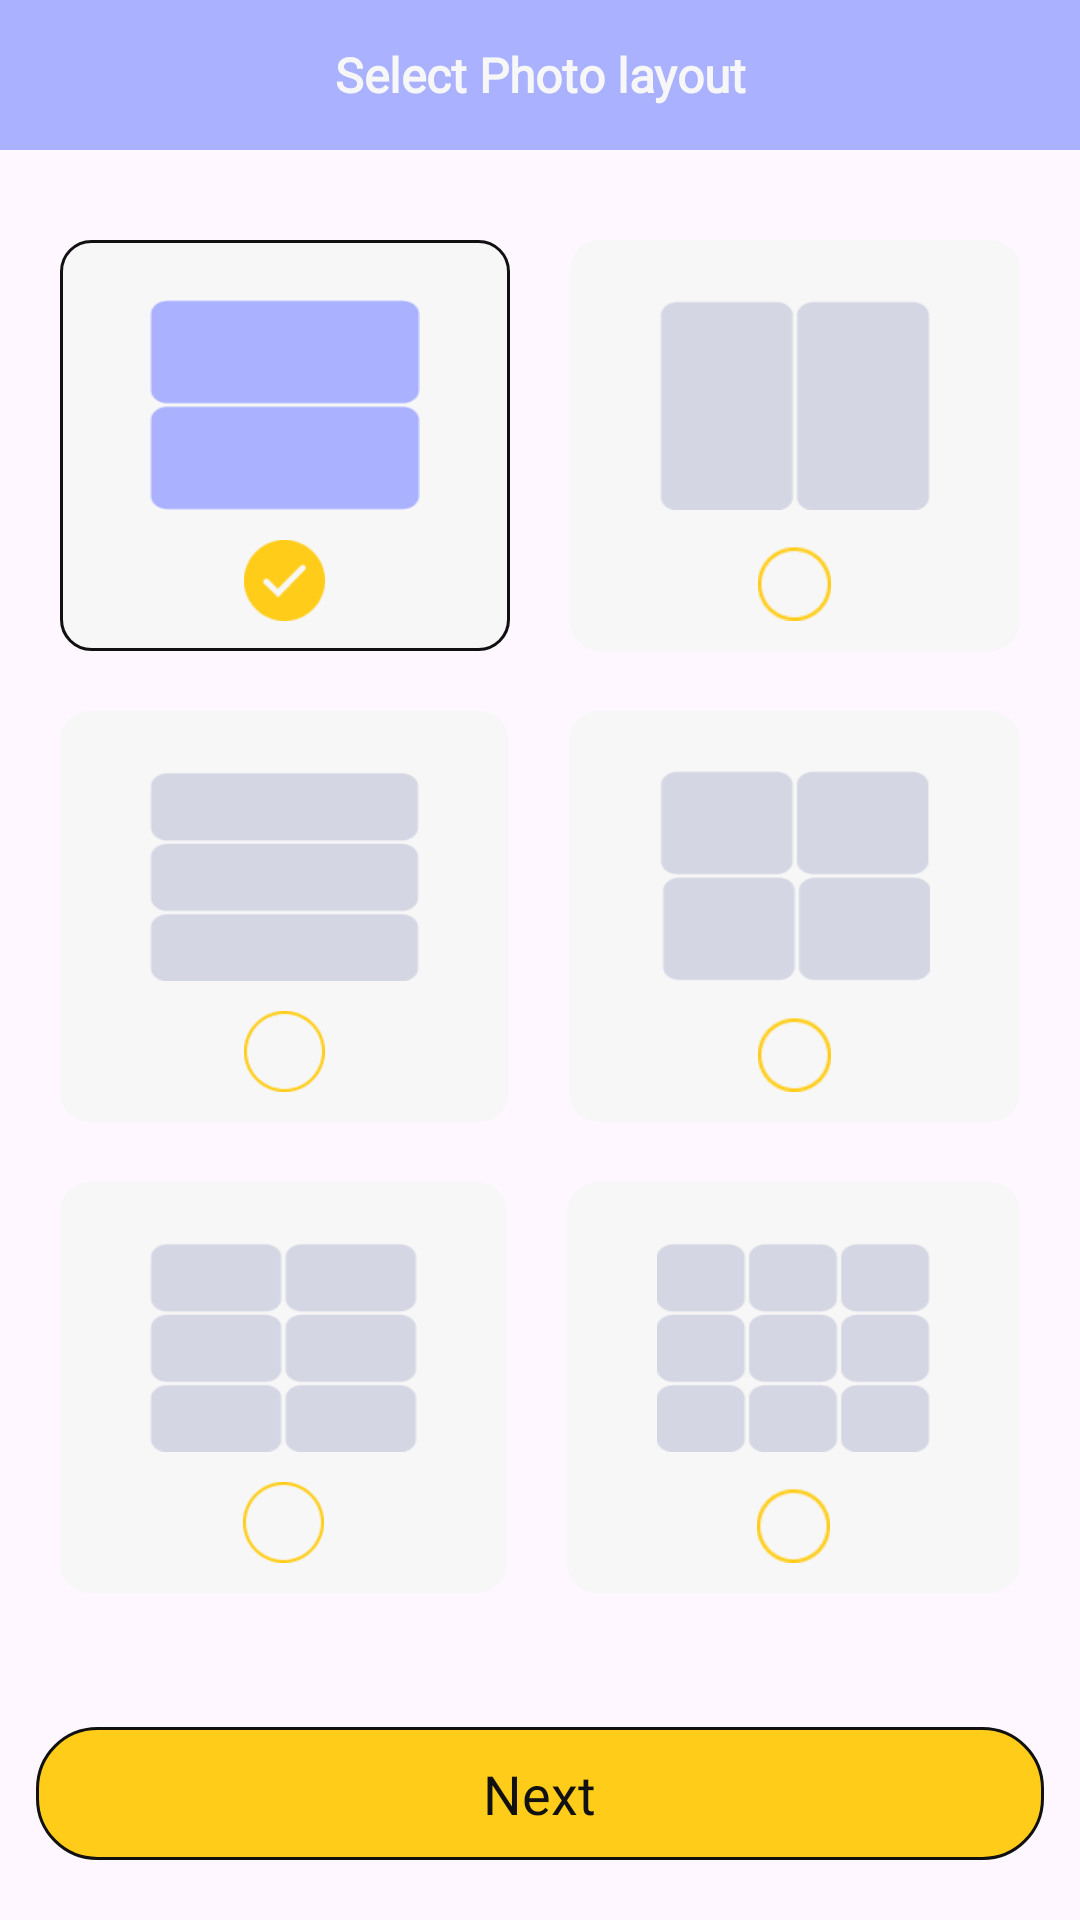

Screen size 1080 × 1920. Icon name, then its center in pixels as (x,y):
lable click: (284,580)
select photo layout collum: (795,406)
